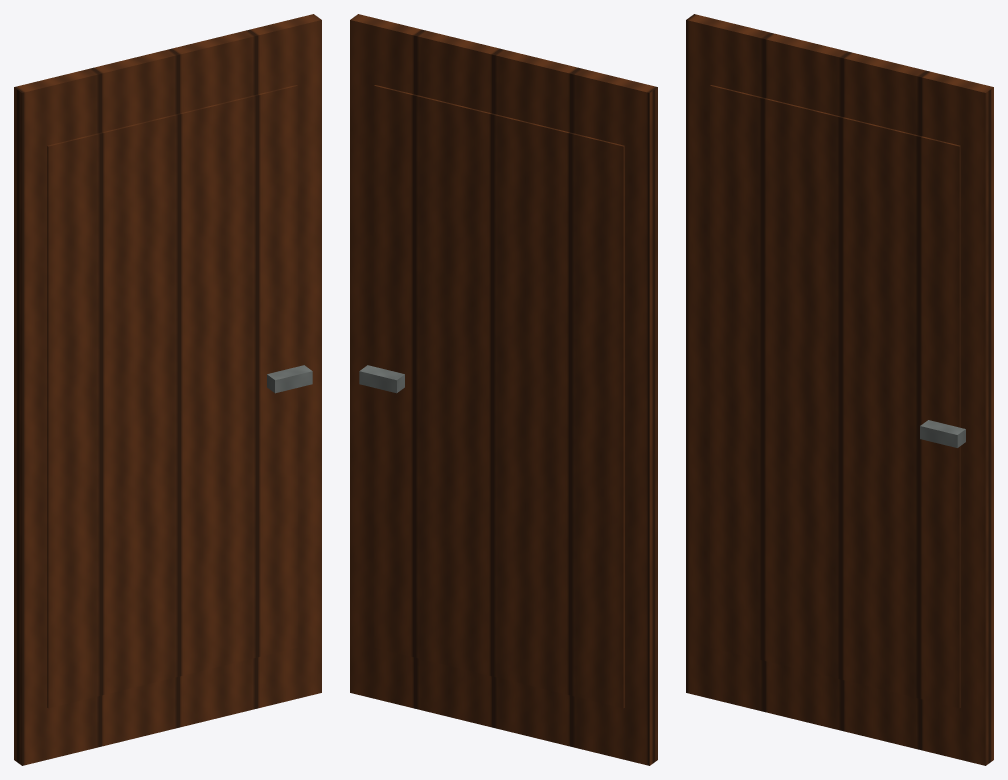
Rendered from door_leaf_1m.glb.
3 renders of one model, left to right at view 1: azimuth 30°, elevation 25°; view 2: azimuth 150°, elevation 25°; view 3: azimuth 330°, elevation 25°, orthographic.
Visible parts, largest first — view 1: PanelFront, Leaf, HandleFront; view 2: PanelBack, Leaf, HandleBack; view 3: PanelFront, Leaf, HandleFront.
Part boxes in pixels (box(x1,y1,x2,y2)): PanelFront: box(47, 85, 297, 708); Leaf: box(14, 14, 321, 765); HandleFront: box(267, 365, 312, 393); PanelBack: box(374, 85, 624, 708); Leaf: box(350, 14, 657, 765); HandleBack: box(359, 365, 404, 393); PanelFront: box(710, 85, 960, 708); Leaf: box(686, 14, 993, 765); HandleFront: box(920, 420, 965, 447).
Size of the model in its own units: 0.96 by 2.06 by 0.15.
Materials: 2 (2 with a texture image).
